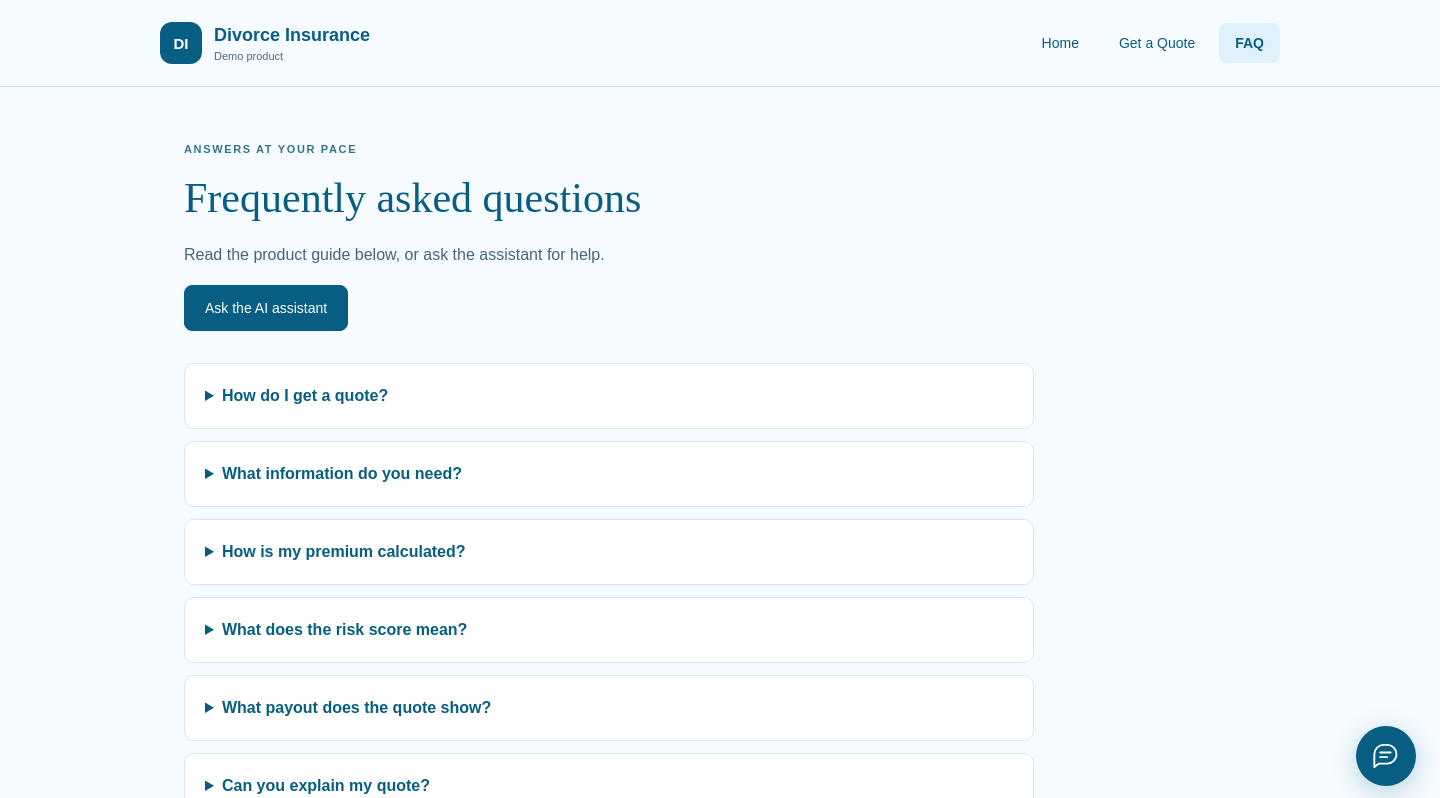
Test: direct FAQ link works and Ask AI opens the persistent chatbot
Expected: the heading "Frequently asked questions" is shown, [184,175,641,221]
Click the button "Ask the AI assistant".
click(266, 308)  # box [184,285,348,331]
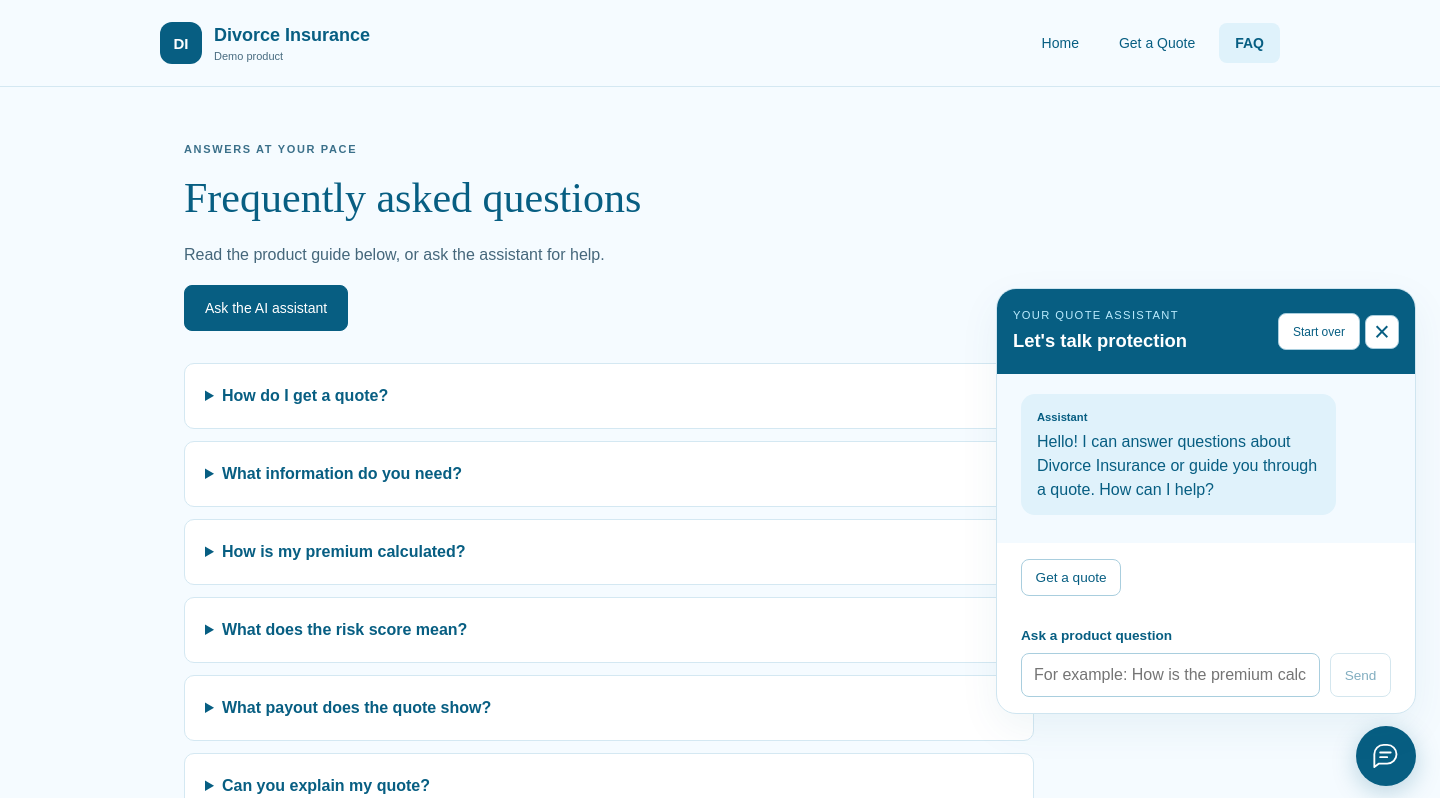
Now the heading "Let's talk protection" is shown, box [1013,330,1187,352]
Click the button "Get a quote".
click(1071, 578)  # box [1021,559,1121,596]
(page scrolled)
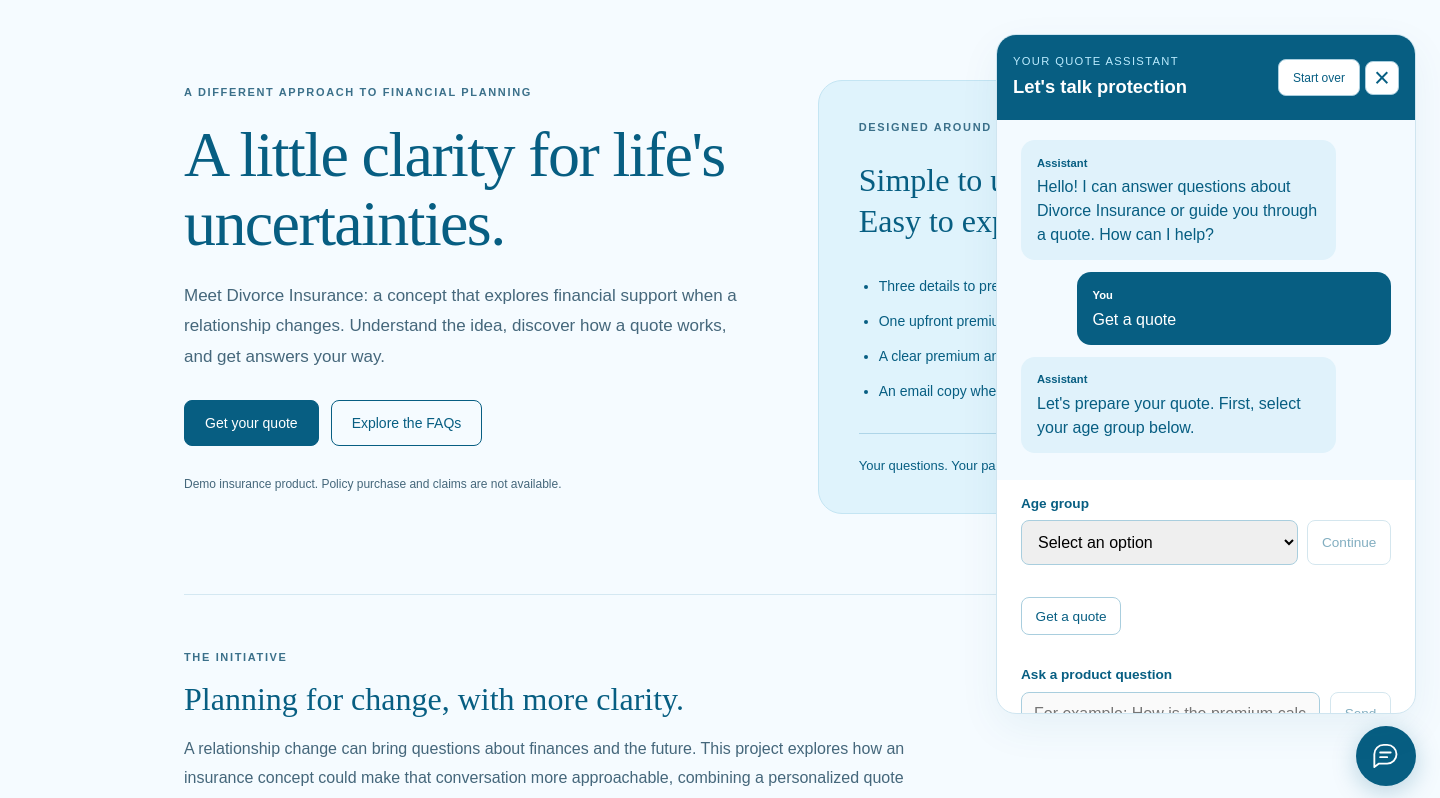
Now the heading "Let's talk protection" is shown, box [1013,75,1187,97]
Now the dropdown labelled "Age group" is shown, box [1021,520,1298,565]
